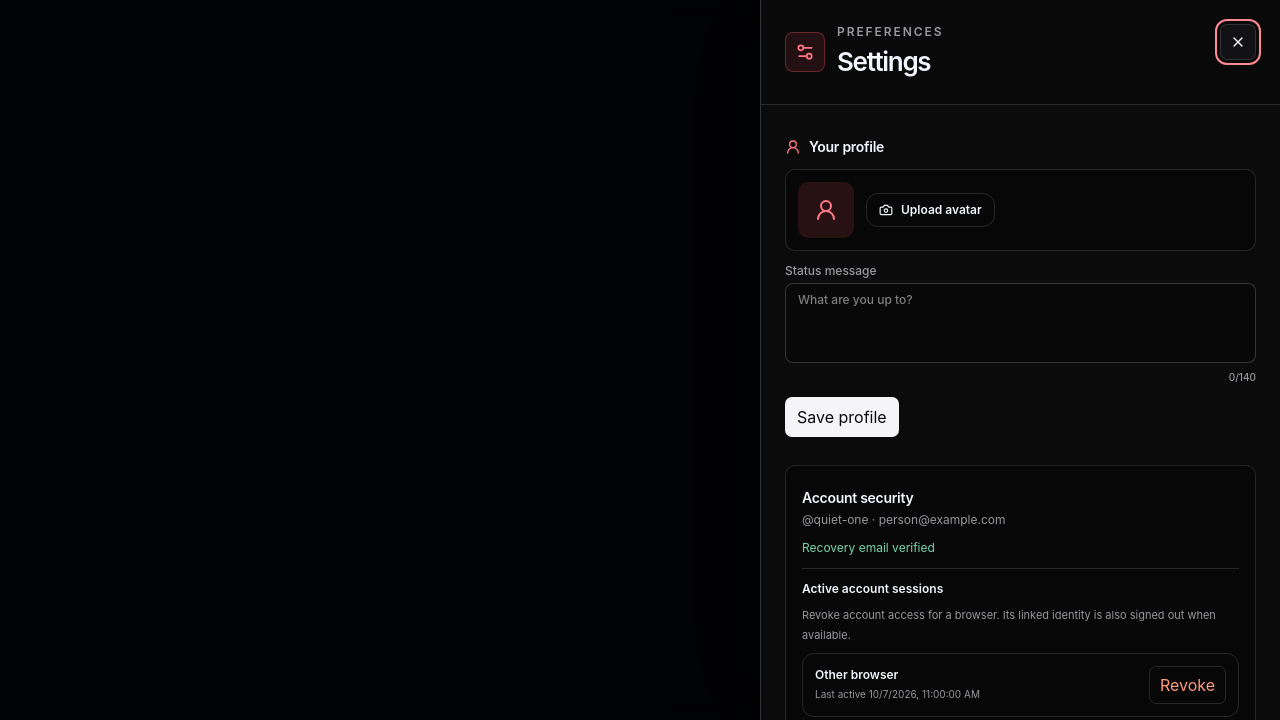
Test: account recovery and session controls › lists and revokes an individual account session
This screenshot has width=1280, height=720.
expect the text "Other browser" is shown: met, box [815,667,898,682]
Click the button "Revoke": (1187, 685) [1149,666,1226,704]
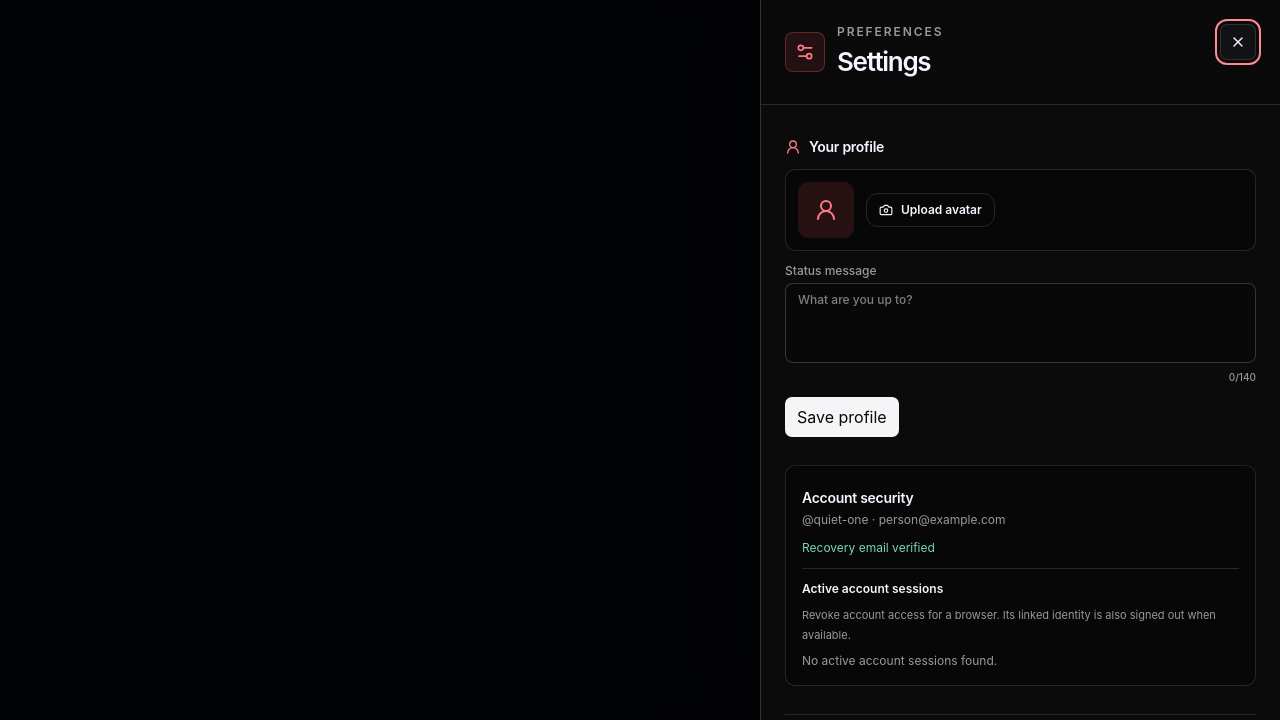
expect the text "Other browser" is gone: met
